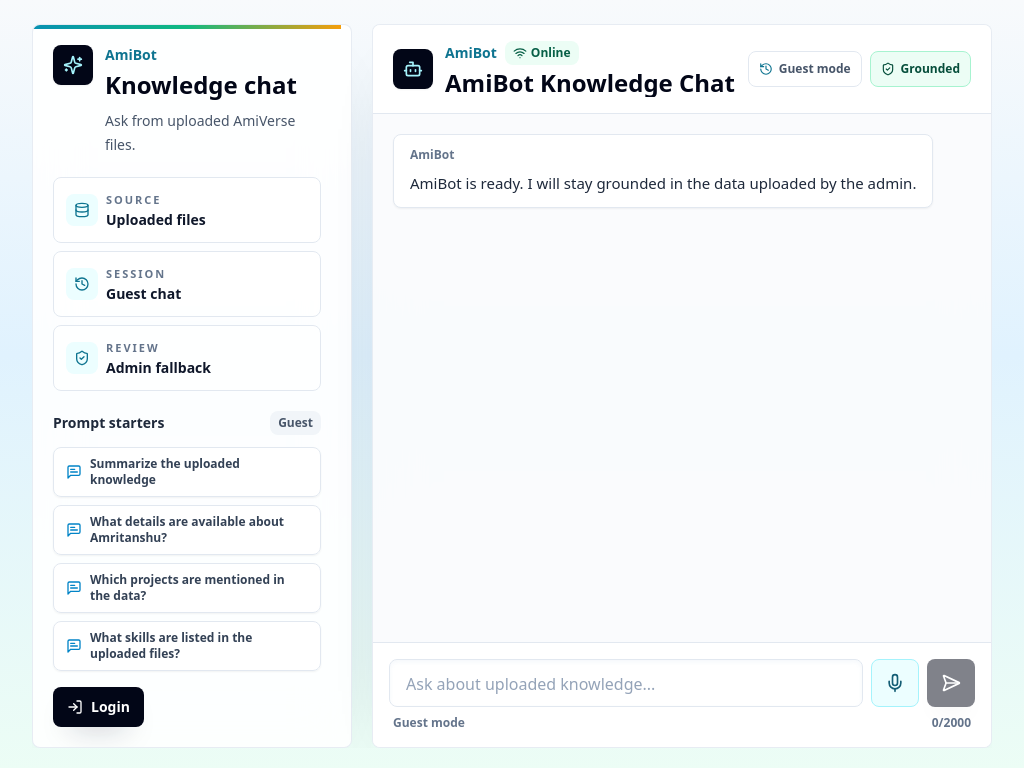
Test: sends a message and renders a sourced markdown answer
Type "What skills are in the uploaded files?" into the text box named "type your message". click: [626, 683]
box: [389,659,863,707]
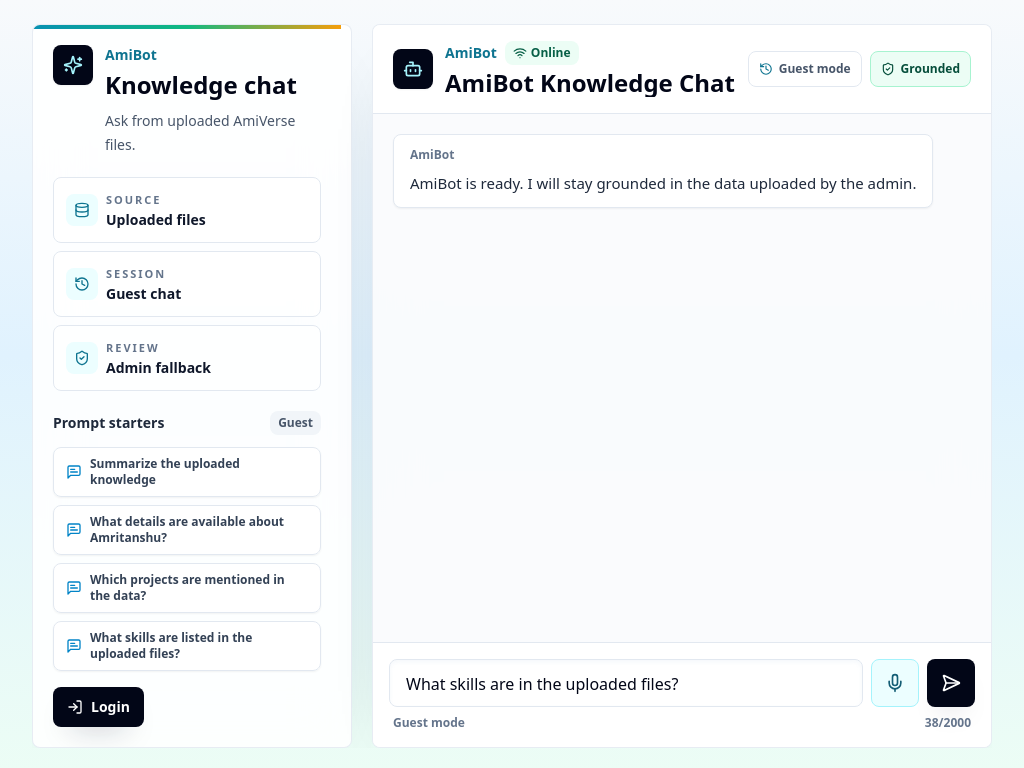
Click the button named "send message". click: [951, 683]
box: [927,659,975,707]
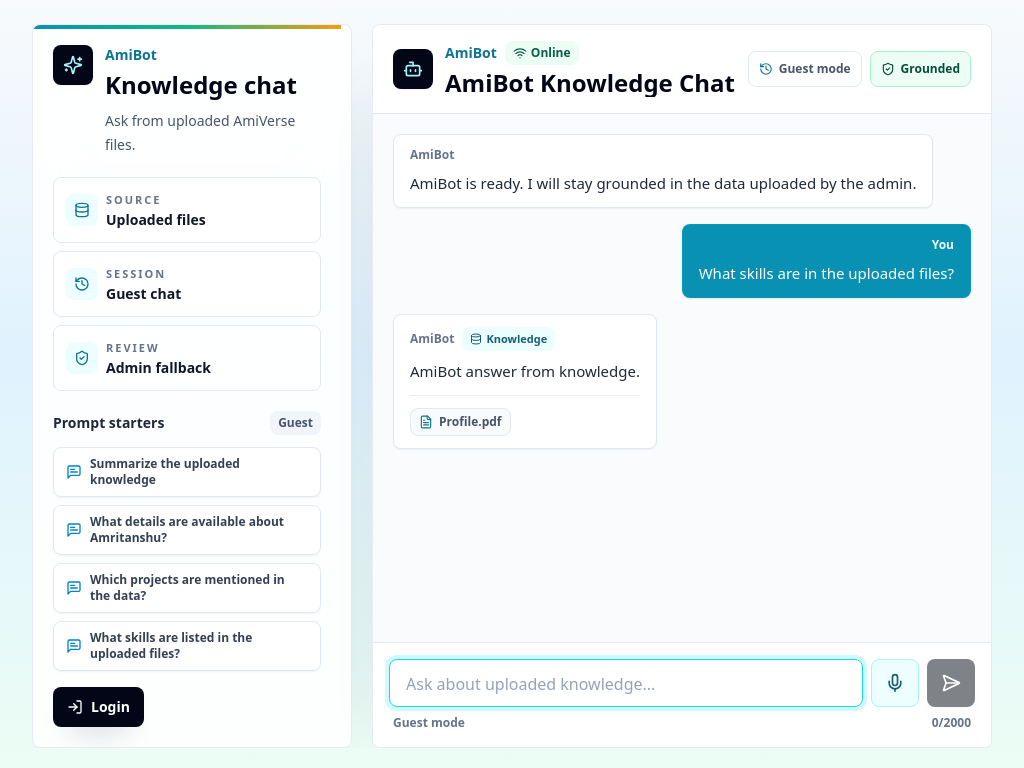
Expected: the text "What skills are in the uploaded files?" is shown, [699,261,954,285]
Expected: the text "AmiBot answer from knowledge." is shown, [410,359,640,383]
Expected: the text "Profile.pdf" is shown, [439,414,502,430]
